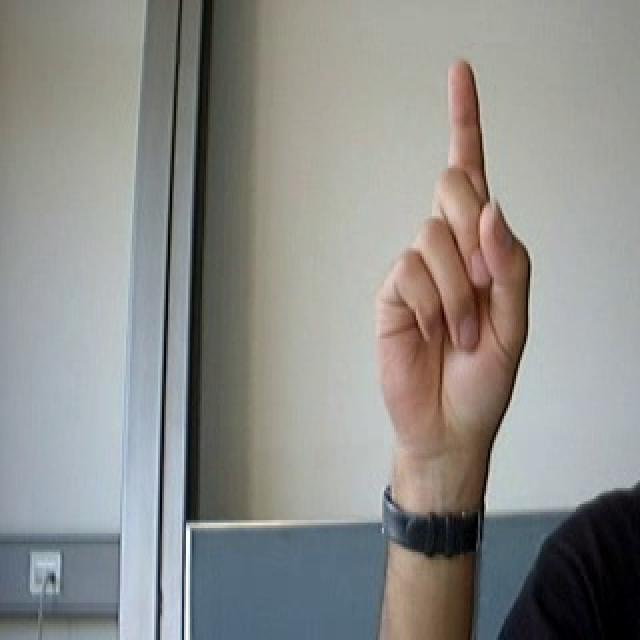D: (312, 41, 572, 480)
